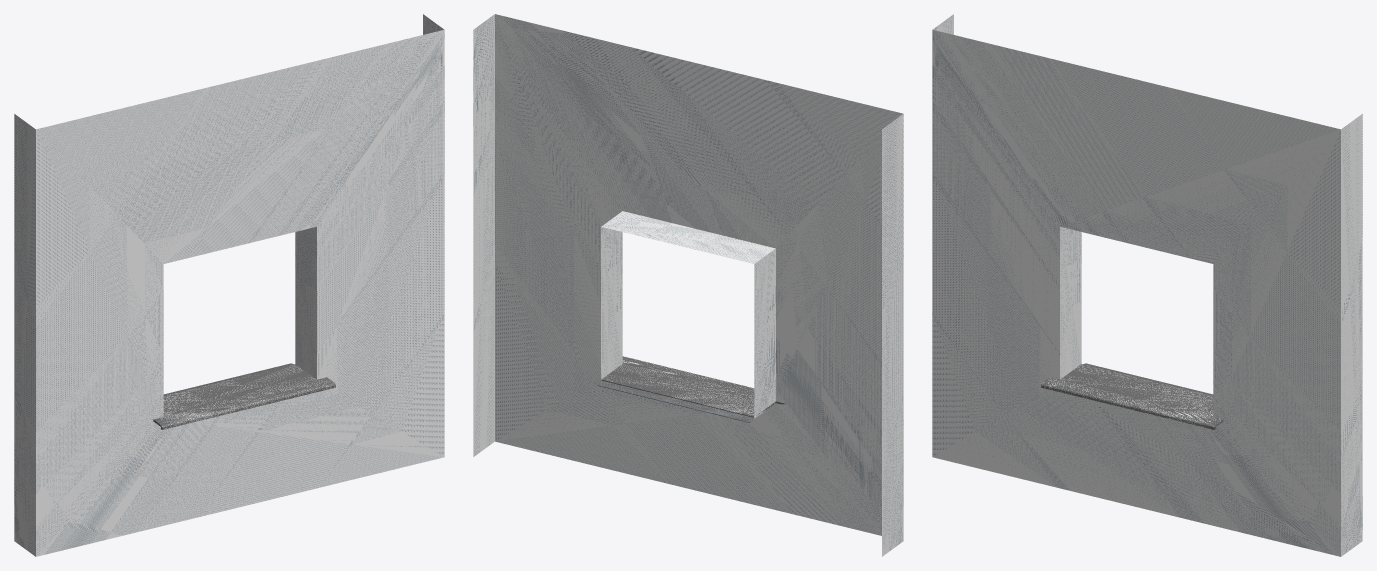
Rendered from WindowBlock_os_[400x400]_150x143x[100].dae.
The picture shows the model from 3 angles, left to right: view 1: azimuth 30°, elevation 25°; view 2: azimuth 150°, elevation 25°; view 3: azimuth 330°, elevation 25°; orthographic projection.
Visible parts, largest first — view 1: group_2 (×2), group_1; view 2: group_2 (×2), group_1 (×2); view 3: group_2 (×2), group_1.
Part boxes in pixels (<box>): group_2 (×2): <box>14,14,444,556</box>; group_1: <box>153,364,335,429</box>; group_2 (×2): <box>473,14,903,556</box>; group_1 (×2): <box>597,356,785,422</box>; group_2 (×2): <box>932,14,1362,556</box>; group_1: <box>1041,364,1222,429</box>.
Size of the model in its own units: 157 by 23.03 by 157.
